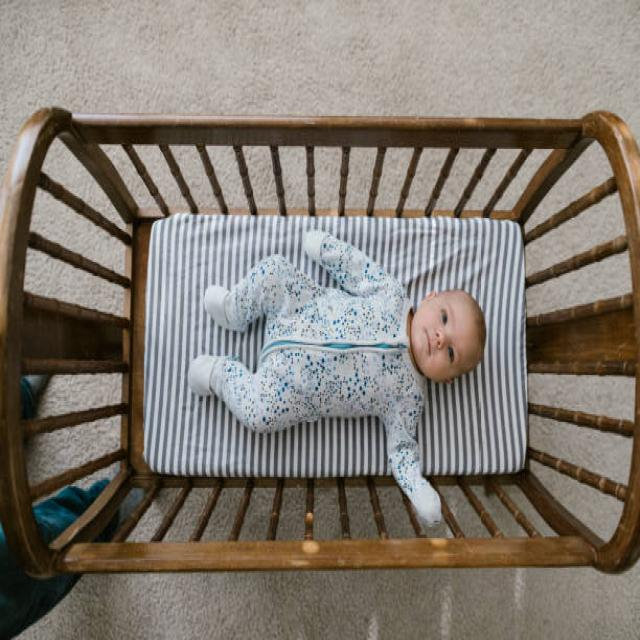baby: (187, 226, 486, 529)
crib: (0, 103, 638, 579)
